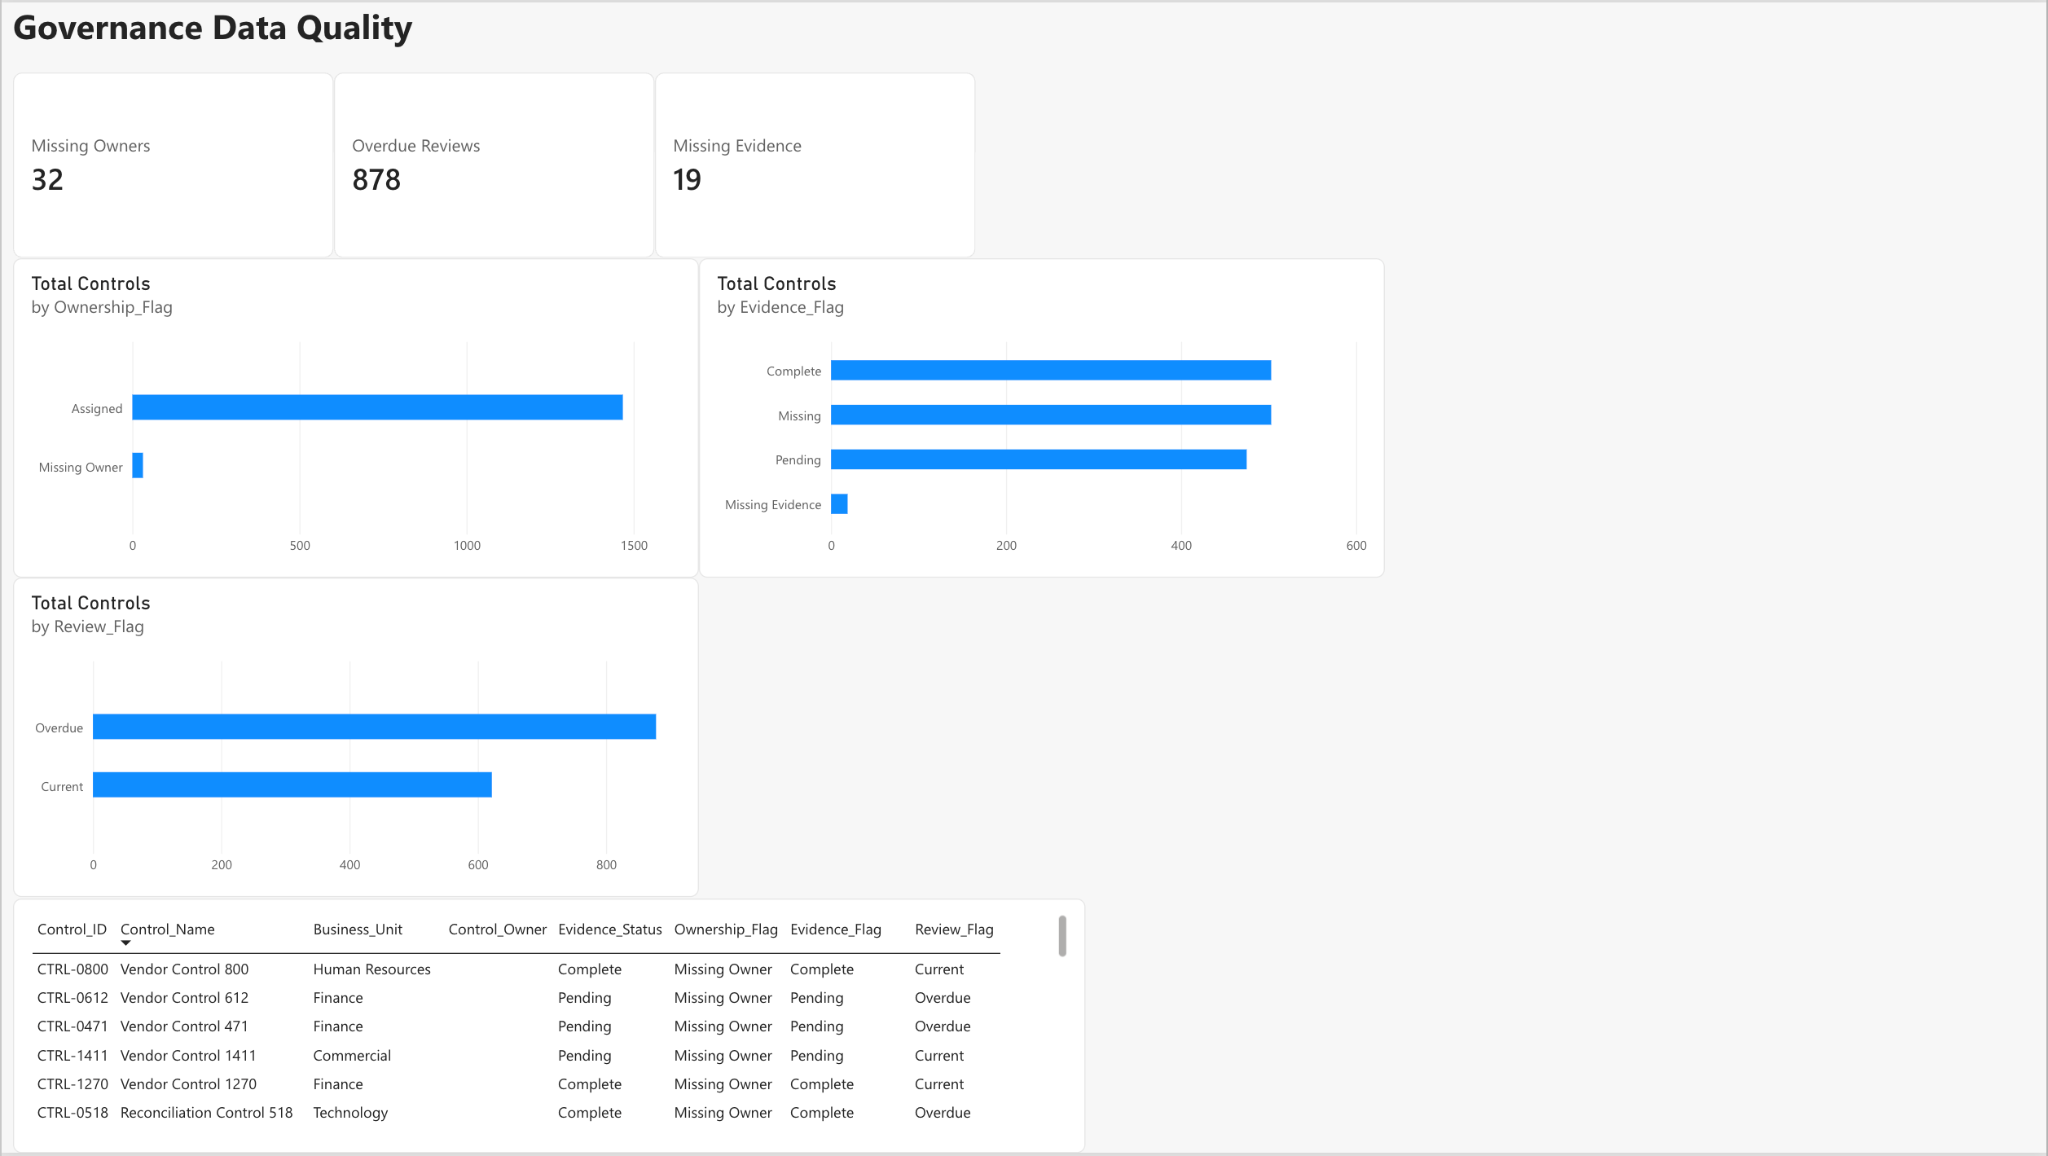

This screenshot's page, from the dashboard's own definition file:
{"tool":"powerbi","page":{"name":"Data Quality","canvas":[1920,1080],"ordinal":2},"visuals":[{"type":"textbox","box":[10.2,0,772.9,66.1],"z":0},{"type":"cardVisual","fields":{"Data":["PQ_Cleaned_Controls.Missing Owners"]},"box":[10.2,66.1,301.7,174.6],"z":1000},{"type":"cardVisual","fields":{"Data":["PQ_Cleaned_Controls.Missing Evidence"]},"box":[613.6,66.1,301.7,174.6],"z":2000},{"type":"cardVisual","fields":{"Data":["PQ_Cleaned_Controls.Overdue Reviews"]},"box":[311.9,66.1,301.7,174.6],"z":3000},{"type":"barChart","fields":{"Category":["PQ_Cleaned_Controls.Ownership_Flag"],"Y":["PQ_Cleaned_Controls.Total Controls"]},"box":[10.2,240.7,644.1,300],"z":4000},{"type":"barChart","fields":{"Category":["PQ_Cleaned_Controls.Evidence_Flag"],"Y":["PQ_Cleaned_Controls.Total Controls"]},"box":[654.2,240.7,644.1,300],"z":5000},{"type":"barChart","fields":{"Category":["PQ_Cleaned_Controls.Review_Flag"],"Y":["PQ_Cleaned_Controls.Total Controls"]},"box":[10.2,540.7,644.1,300],"z":6000},{"type":"tableEx","fields":{"Values":["PQ_Cleaned_Controls.Control_ID","PQ_Cleaned_Controls.Control_Name","PQ_Cleaned_Controls.Business_Unit","PQ_Cleaned_Controls.Control_Owner","PQ_Cleaned_Controls.Evidence_Status","PQ_Cleaned_Controls.Ownership_Flag","PQ_Cleaned_Controls.Evidence_Flag","PQ_Cleaned_Controls.Review_Flag"]},"box":[10.2,840.7,1006.8,239],"z":7000}]}

Visuals, with their boxes in screenshot pixels (x1, y1, x2, y2), scaled from the page's 1920x1080 canvas onto the 2048x1156 screenshot:
textbox: 11, 0, 835, 71
cardVisual - PQ_Cleaned_Controls.Missing Owners: 11, 71, 333, 258
cardVisual - PQ_Cleaned_Controls.Missing Evidence: 655, 71, 976, 258
cardVisual - PQ_Cleaned_Controls.Overdue Reviews: 333, 71, 655, 258
barChart - PQ_Cleaned_Controls.Ownership_Flag x PQ_Cleaned_Controls.Total Controls: 11, 258, 698, 579
barChart - PQ_Cleaned_Controls.Evidence_Flag x PQ_Cleaned_Controls.Total Controls: 698, 258, 1385, 579
barChart - PQ_Cleaned_Controls.Review_Flag x PQ_Cleaned_Controls.Total Controls: 11, 579, 698, 900
tableEx - PQ_Cleaned_Controls.Control_ID x PQ_Cleaned_Controls.Control_Name: 11, 900, 1085, 1155
